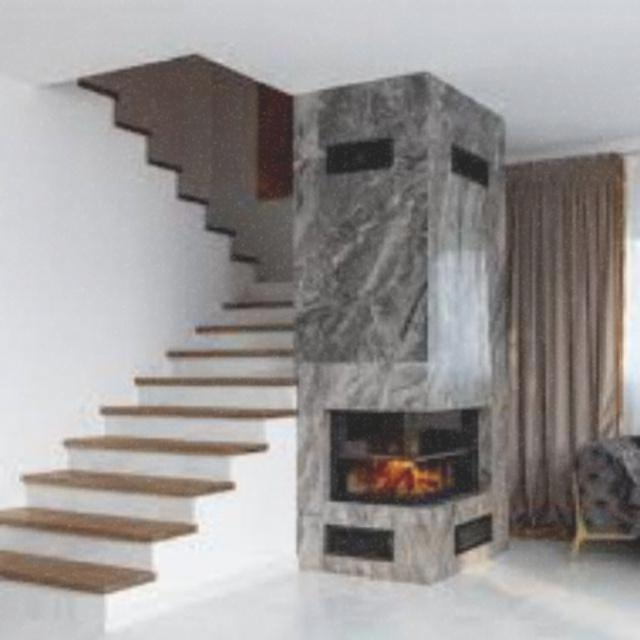stair: (0, 280, 342, 638)
